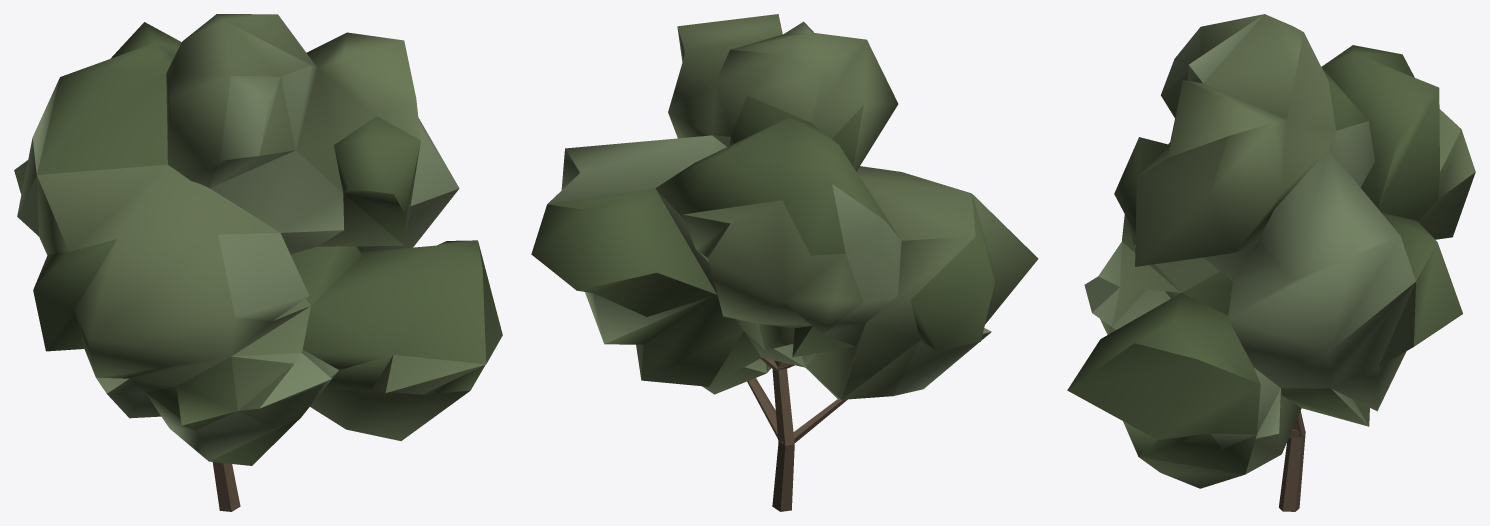
The picture shows the model from 3 angles, left to right: view 1: azimuth 30°, elevation 25°; view 2: azimuth 150°, elevation 25°; view 3: azimuth 270°, elevation 25°; orthographic projection. The views are drawn at different scales.
Parts seen in each view (by area): view 1: Лиственное · сквозистое; view 2: Лиственное · сквозистое; view 3: Лиственное · сквозистое.
Part boxes in pixels (bbox=[...]): Лиственное · сквозистое: bbox=[14, 14, 502, 511]; Лиственное · сквозистое: bbox=[531, 14, 1038, 511]; Лиственное · сквозистое: bbox=[1067, 14, 1475, 511].
Size of the model in its own units: 20.11 by 22.51 by 17.1.
